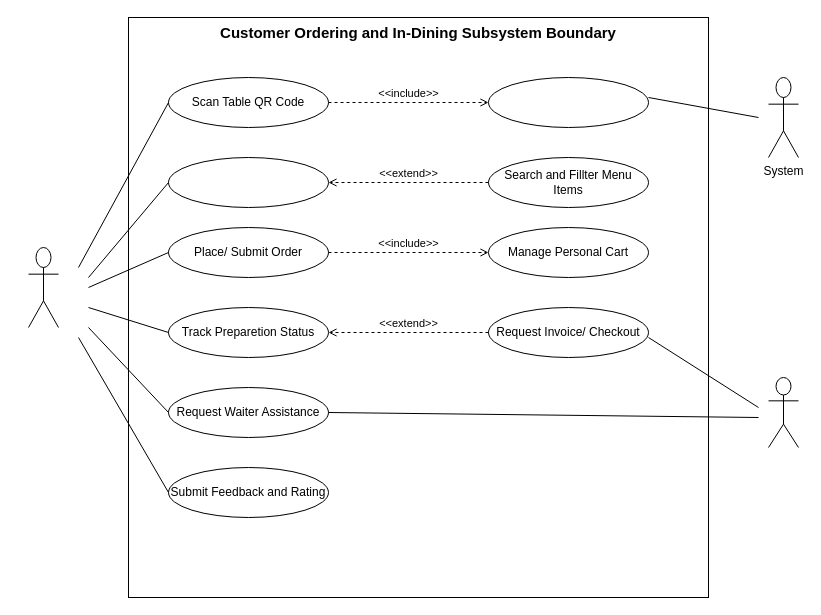
The diagram is 821 pixels wide and 615 high, and some of its shapes have lost their labels. The shapes that lost their labels are listed below. From the top down, each one's centre as x and y in pixels, then its label:
At pixel 568 102: "Initialize Dining Session".
At pixel 248 182: "Browse Digital Menu".
At pixel 43 287: "Customer".
At pixel 783 412: "Waiter".
